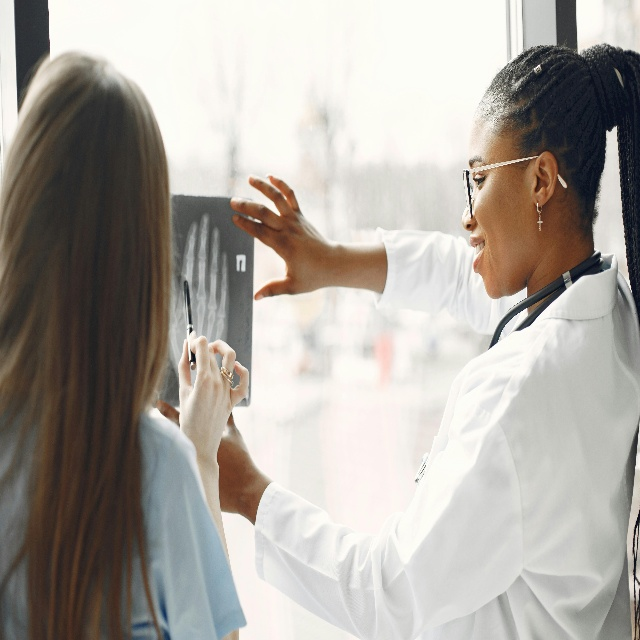Gafas: (461, 156, 566, 213)
Sin_guantes: (228, 161, 332, 300), (157, 398, 249, 520), (176, 336, 251, 439)
